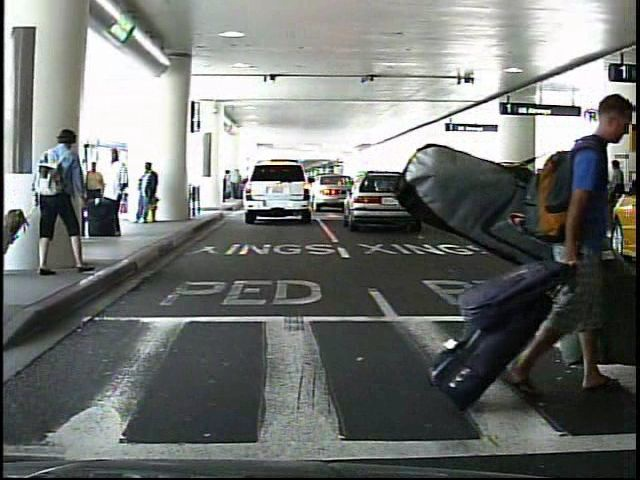person: (516, 88, 627, 393), (32, 127, 80, 276), (99, 146, 127, 239), (597, 158, 628, 226), (135, 160, 161, 227), (81, 158, 103, 233), (554, 164, 569, 213), (567, 168, 580, 212)
